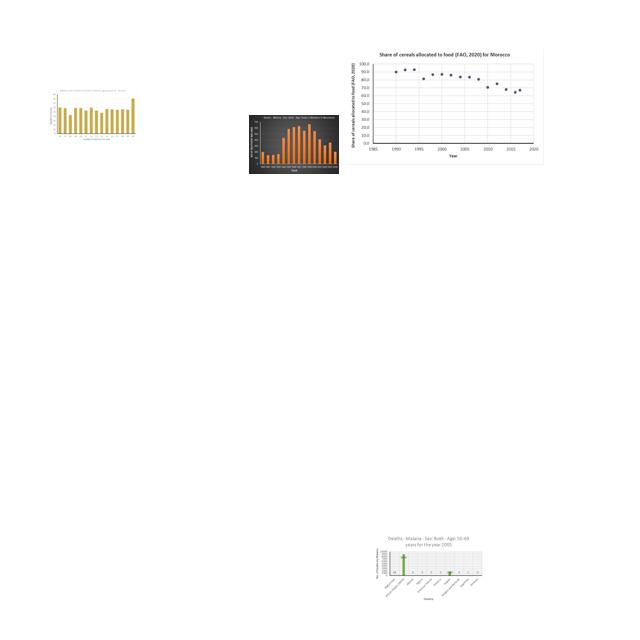Graph: (347, 49, 544, 165), (372, 533, 485, 605), (249, 115, 339, 174), (48, 88, 138, 143)
